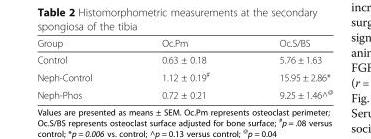table: (36, 37, 332, 100)
table column: (126, 37, 243, 100), (36, 37, 126, 100), (243, 37, 332, 100)
table column header: (36, 37, 332, 51)
table row: (36, 67, 332, 85), (36, 51, 332, 67), (36, 85, 332, 100), (36, 37, 332, 51)
